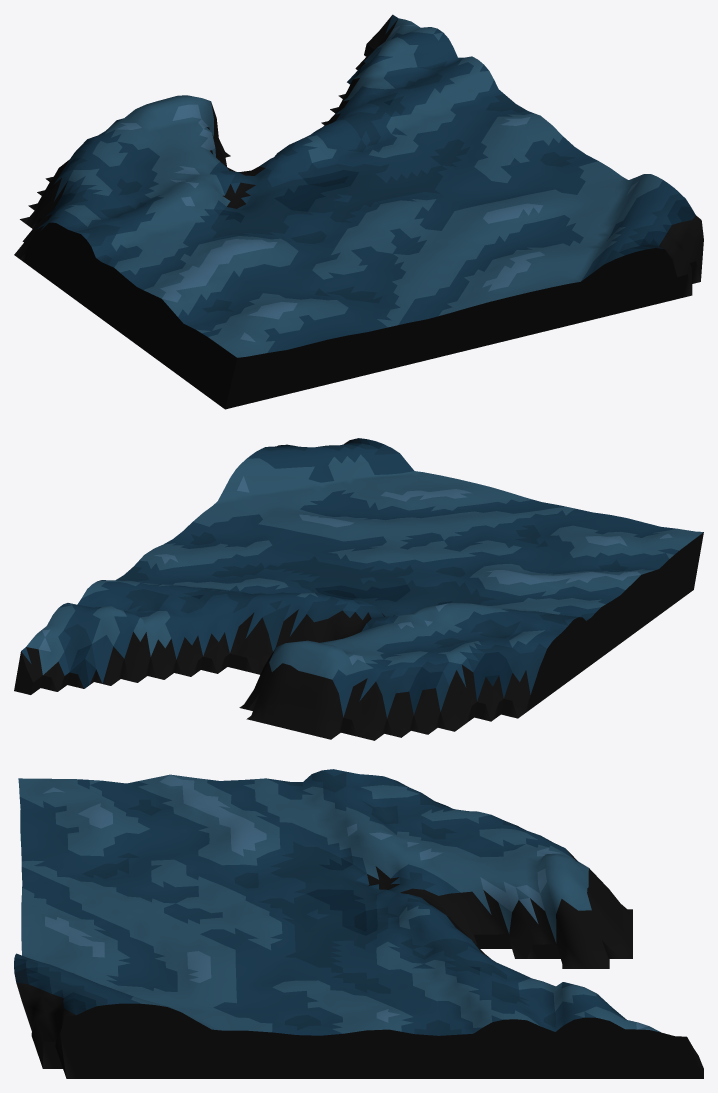
The model's file is gryphon_51.glb.
3 views of the same model, one above another, from view 1: azimuth 30°, elevation 25°; view 2: azimuth 150°, elevation 25°; view 3: azimuth 270°, elevation 25° (orthographic). The views are drawn at different scales.
Visible parts, largest first — view 1: gryphon_51; view 2: gryphon_51; view 3: gryphon_51.
Boxes of the visible parts, box(x1,y1,x2,y2) form: gryphon_51: box(14, 14, 703, 409); gryphon_51: box(14, 438, 703, 740); gryphon_51: box(14, 769, 703, 1078).
Bounding box in the file's own units: 24 × 3.52 × 29.22.
